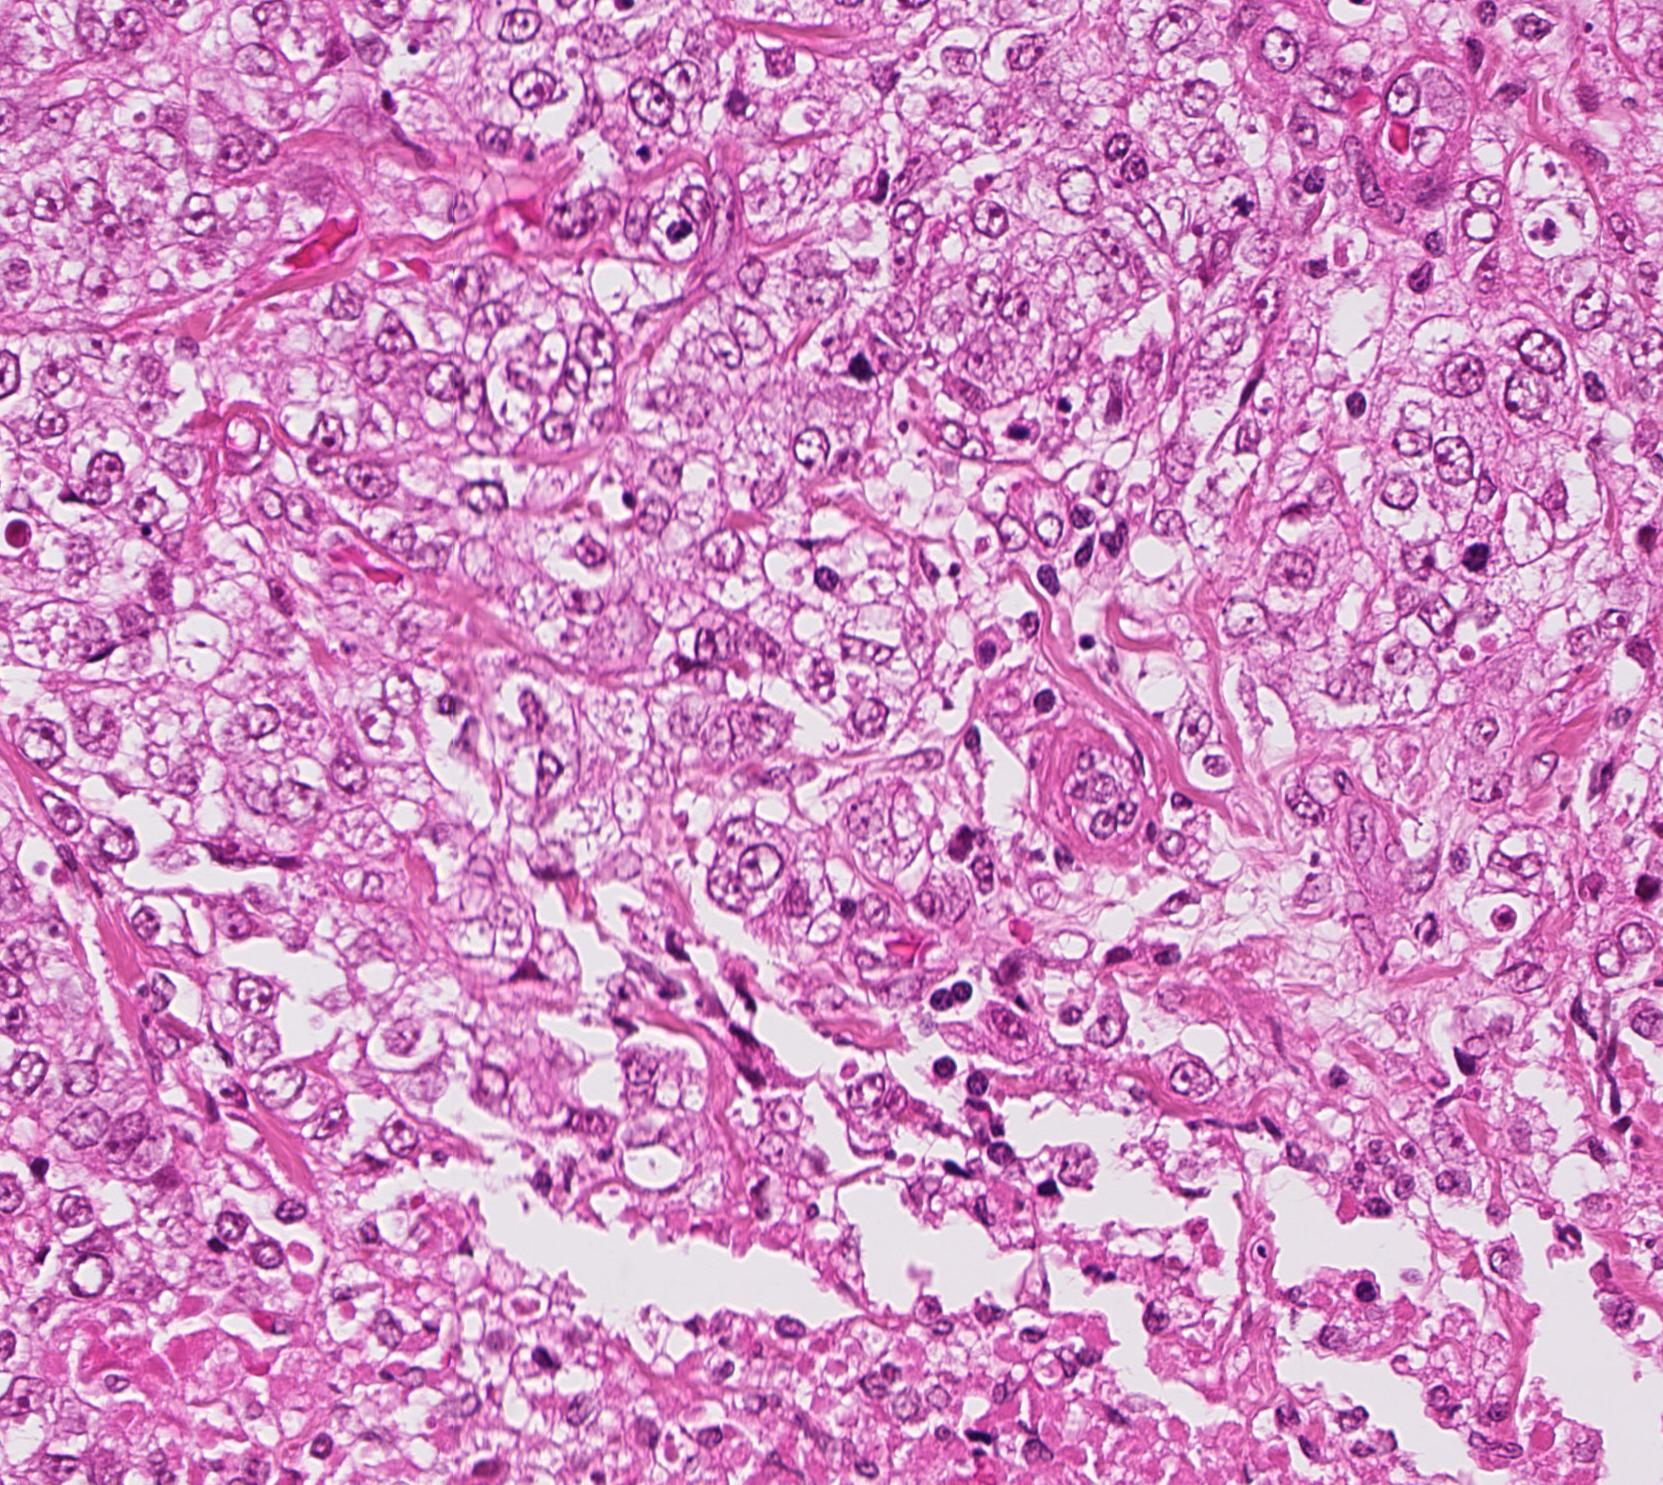mitosis: (1448, 519, 1508, 579), (830, 330, 890, 388)
